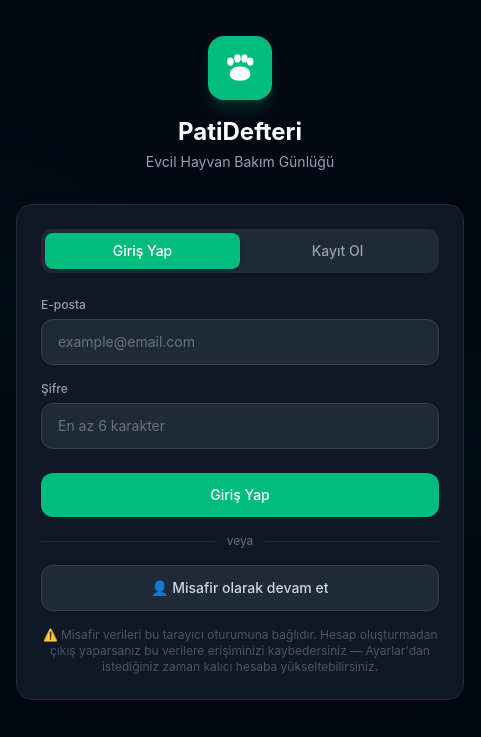
AuthPage doğrulama › boş formda zorunlu alan hatalarını gösterir
This screenshot has width=481, height=737.
Click the button "Giriş Yap" below "Şifre" at [240, 495], box [41,473,439,517]
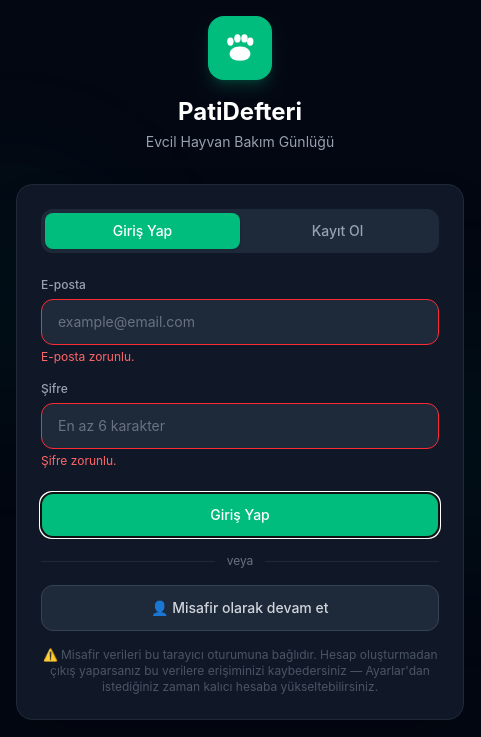
expect the text "E-posta zorunlu." is shown: met, box [41,349,134,364]
expect the text "Şifre zorunlu." is shown: met, box [41,453,116,468]
